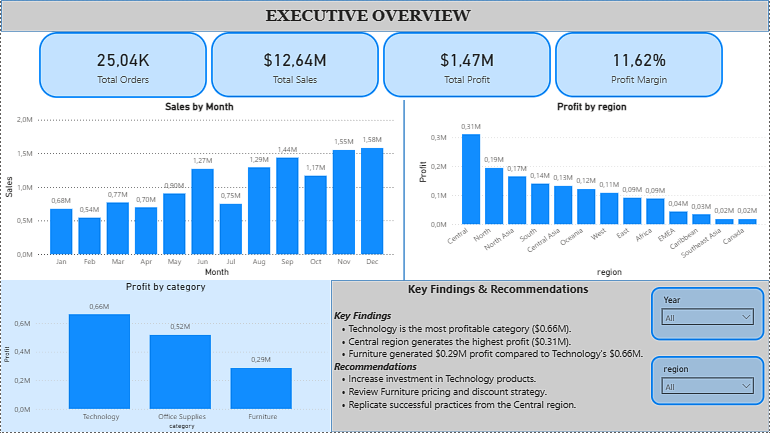

Layout of this report page (visuals, bound fields, positions):
{"tool":"powerbi","page":{"name":"Page 1 — Executive Overview","canvas":[1280,720],"ordinal":1},"visuals":[{"type":"card","fields":{"Values":["127 0 0 1:3309: FinanceTrade.Total Sales"]},"box":[349.2,53.8,280,109.2],"z":0},{"type":"card","fields":{"Values":["127 0 0 1:3309: FinanceTrade.Total Profit"]},"box":[636.9,53.8,280,109.2],"z":1000},{"type":"card","fields":{"Values":["127 0 0 1:3309: FinanceTrade.Profit Margin"]},"box":[923.1,53.8,280,109.2],"z":2000},{"type":"card","fields":{"Values":["127 0 0 1:3309: FinanceTrade.Total Orders"]},"box":[64.1,53.3,280,110],"z":3000},{"type":"columnChart","title":"Sales by Month","fields":{"Category":["dim_date.Month"],"Y":["Sum(store.sales)"]},"box":[0,166.2,661.5,300],"z":4000},{"type":"columnChart","fields":{"Y":["Sum(store.profit)"],"Category":["store.category"]},"box":[0,466.2,549.2,253.8],"z":5000},{"type":"shape","box":[663.1,166.2,16.9,300],"z":6000},{"type":"columnChart","title":"Profit by region","fields":{"Category":["store.region"],"Y":["Sum(store.profit)"]},"box":[690,166.7,590,300],"z":7000},{"type":"shape","box":[549.2,466.2,730.8,253.8],"z":8000},{"type":"textbox","title":"Key Findings & Recommendations","box":[549.2,467.7,556.9,252.3],"z":9000},{"type":"shape","box":[0,0,1280,53.3],"z":10000},{"type":"textbox","title":"EXECUTIVE OVERVIEW","box":[263.3,11.7,696.7,30],"z":11000},{"type":"slicer","fields":{"Values":["dim_date.Year"]},"box":[1082.6,478.5,189.2,89.2],"z":12000},{"type":"slicer","fields":{"Values":["dim_location.region"]},"box":[1082.6,593.8,189.2,81.5],"z":13000}]}

Visuals, with their boxes in screenshot pixels (x1, y1, x2, y2), scaled from the page's 1280x720 canvas onto the 770x433 screenshot:
card - 127 0 0 1:3309: FinanceTrade.Total Sales: left=210, top=32, right=379, bottom=98
card - 127 0 0 1:3309: FinanceTrade.Total Profit: left=383, top=32, right=552, bottom=98
card - 127 0 0 1:3309: FinanceTrade.Profit Margin: left=555, top=32, right=724, bottom=98
card - 127 0 0 1:3309: FinanceTrade.Total Orders: left=39, top=32, right=207, bottom=98
"Sales by Month" columnChart: left=0, top=100, right=398, bottom=280
columnChart - Sum(store.profit) x store.category: left=0, top=280, right=330, bottom=432
shape: left=399, top=100, right=409, bottom=280
"Profit by region" columnChart: left=415, top=100, right=769, bottom=281
shape: left=330, top=280, right=769, bottom=432
"Key Findings & Recommendations" textbox: left=330, top=281, right=665, bottom=432
shape: left=0, top=0, right=769, bottom=32
"EXECUTIVE OVERVIEW" textbox: left=158, top=7, right=578, bottom=25
slicer - dim_date.Year: left=651, top=288, right=765, bottom=341
slicer - dim_location.region: left=651, top=357, right=765, bottom=406
